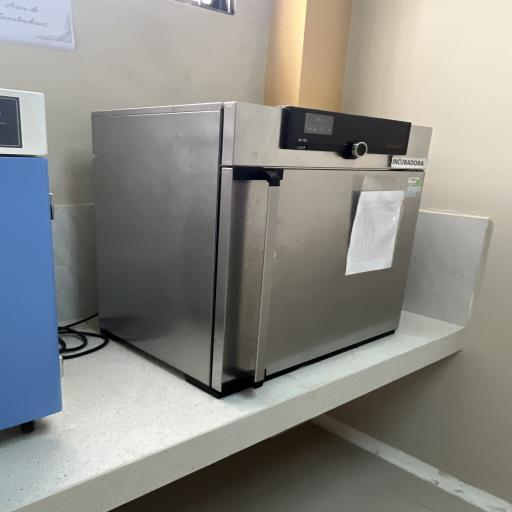Incubadora: (79, 94, 446, 401)
